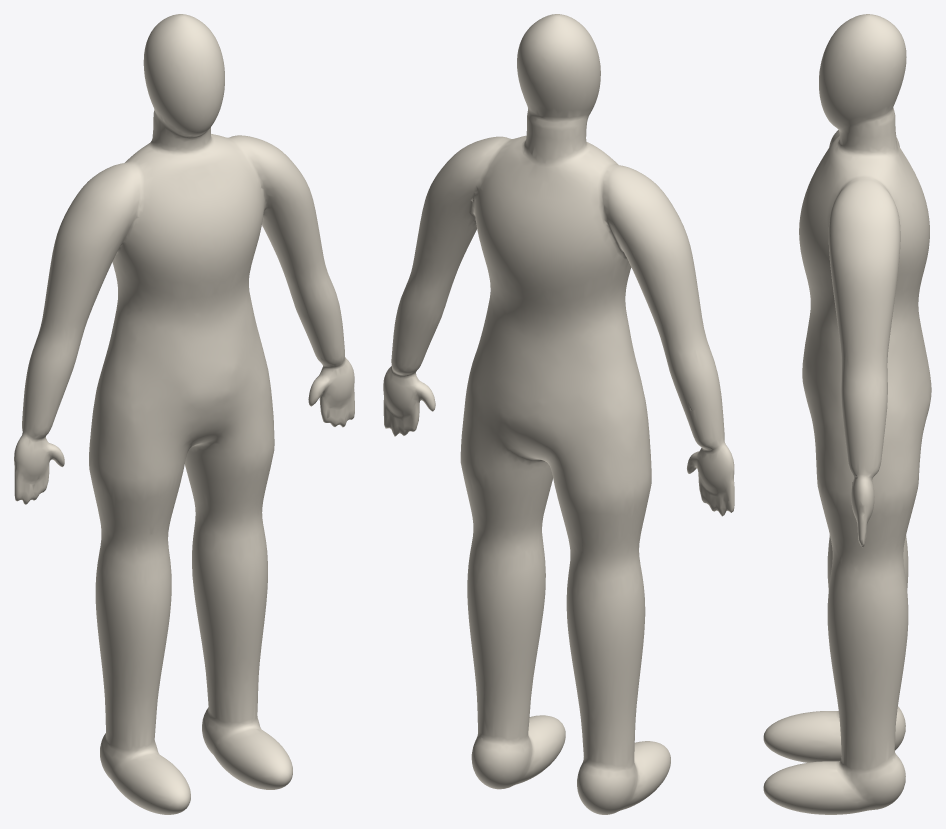
The model's file is Woobi_Female_Mannequin.glb.
3 renders of one model, left to right at view 1: azimuth 30°, elevation 25°; view 2: azimuth 150°, elevation 25°; view 3: azimuth 270°, elevation 25°, orthographic. The views are drawn at different scales.
Visible parts, largest first — view 1: Woobi_Female_Mannequin_Body; view 2: Woobi_Female_Mannequin_Body; view 3: Woobi_Female_Mannequin_Body.
Boxes of the visible parts, left/top/right/bottom form: Woobi_Female_Mannequin_Body: left=14, top=14, right=354, bottom=814; Woobi_Female_Mannequin_Body: left=383, top=14, right=734, bottom=814; Woobi_Female_Mannequin_Body: left=763, top=14, right=931, bottom=814.
Bounding box in the file's own units: 0.7921 × 1.7 × 0.3358.
